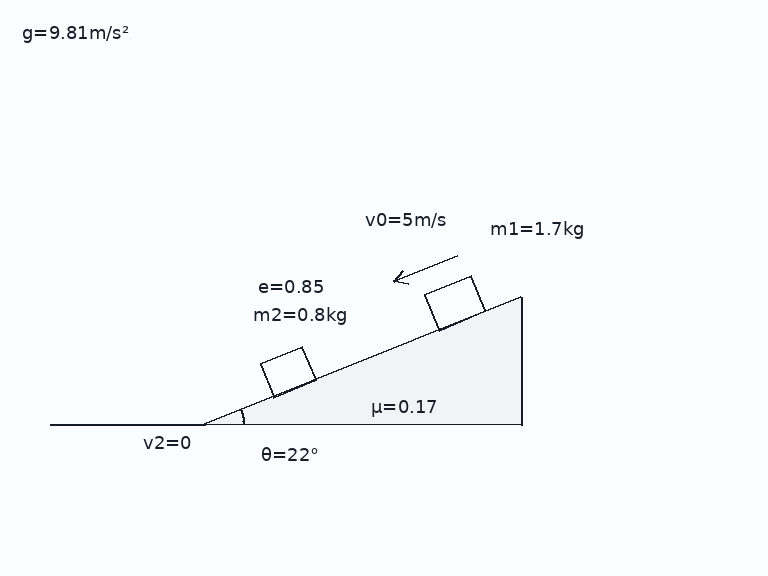block: (422, 274, 487, 332), (258, 345, 318, 398)
ramp: (202, 294, 522, 426)
